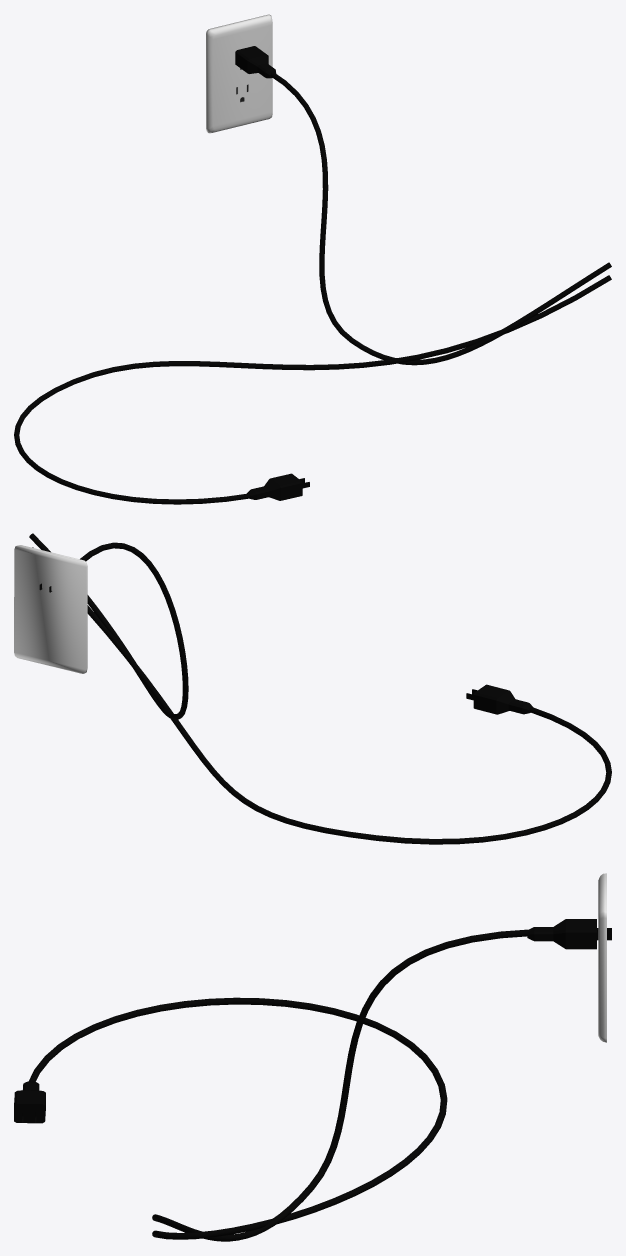
File: cord.glb
3 renders of one model, top to bottom at view 1: azimuth 30°, elevation 25°; view 2: azimuth 150°, elevation 25°; view 3: azimuth 270°, elevation 25°, orthographic. The views are drawn at different scales.
Parts seen in each view (by area): view 1: Outlet__0, desk cord on floor, desk cord in plug; view 2: Outlet__0, desk cord on floor, desk cord in plug; view 3: desk cord on floor, desk cord in plug, Outlet__0.
Part boxes in pixels (<box>): Outlet__0: <box>206,14,272,133</box>; desk cord on floor: <box>14,275,611,504</box>; desk cord in plug: <box>235,46,611,365</box>; Outlet__0: <box>14,545,87,673</box>; desk cord on floor: <box>32,547,611,844</box>; desk cord in plug: <box>29,533,188,719</box>; desk cord on floor: <box>14,997,447,1239</box>; desk cord in plug: <box>152,919,611,1241</box>; Outlet__0: <box>598,873,606,1042</box>.
Bounding box in the file's own units: 0.703 × 0.3249 × 0.5239.
2 materials, 1 textured.
